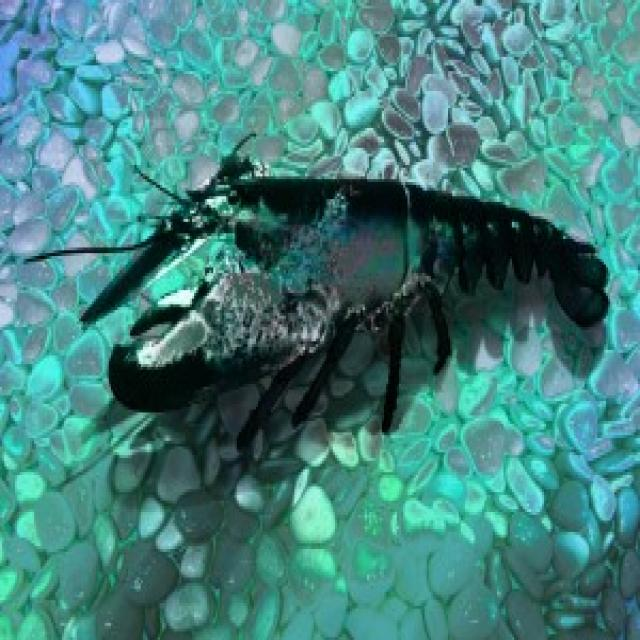lobsters: (51, 125, 640, 461)
